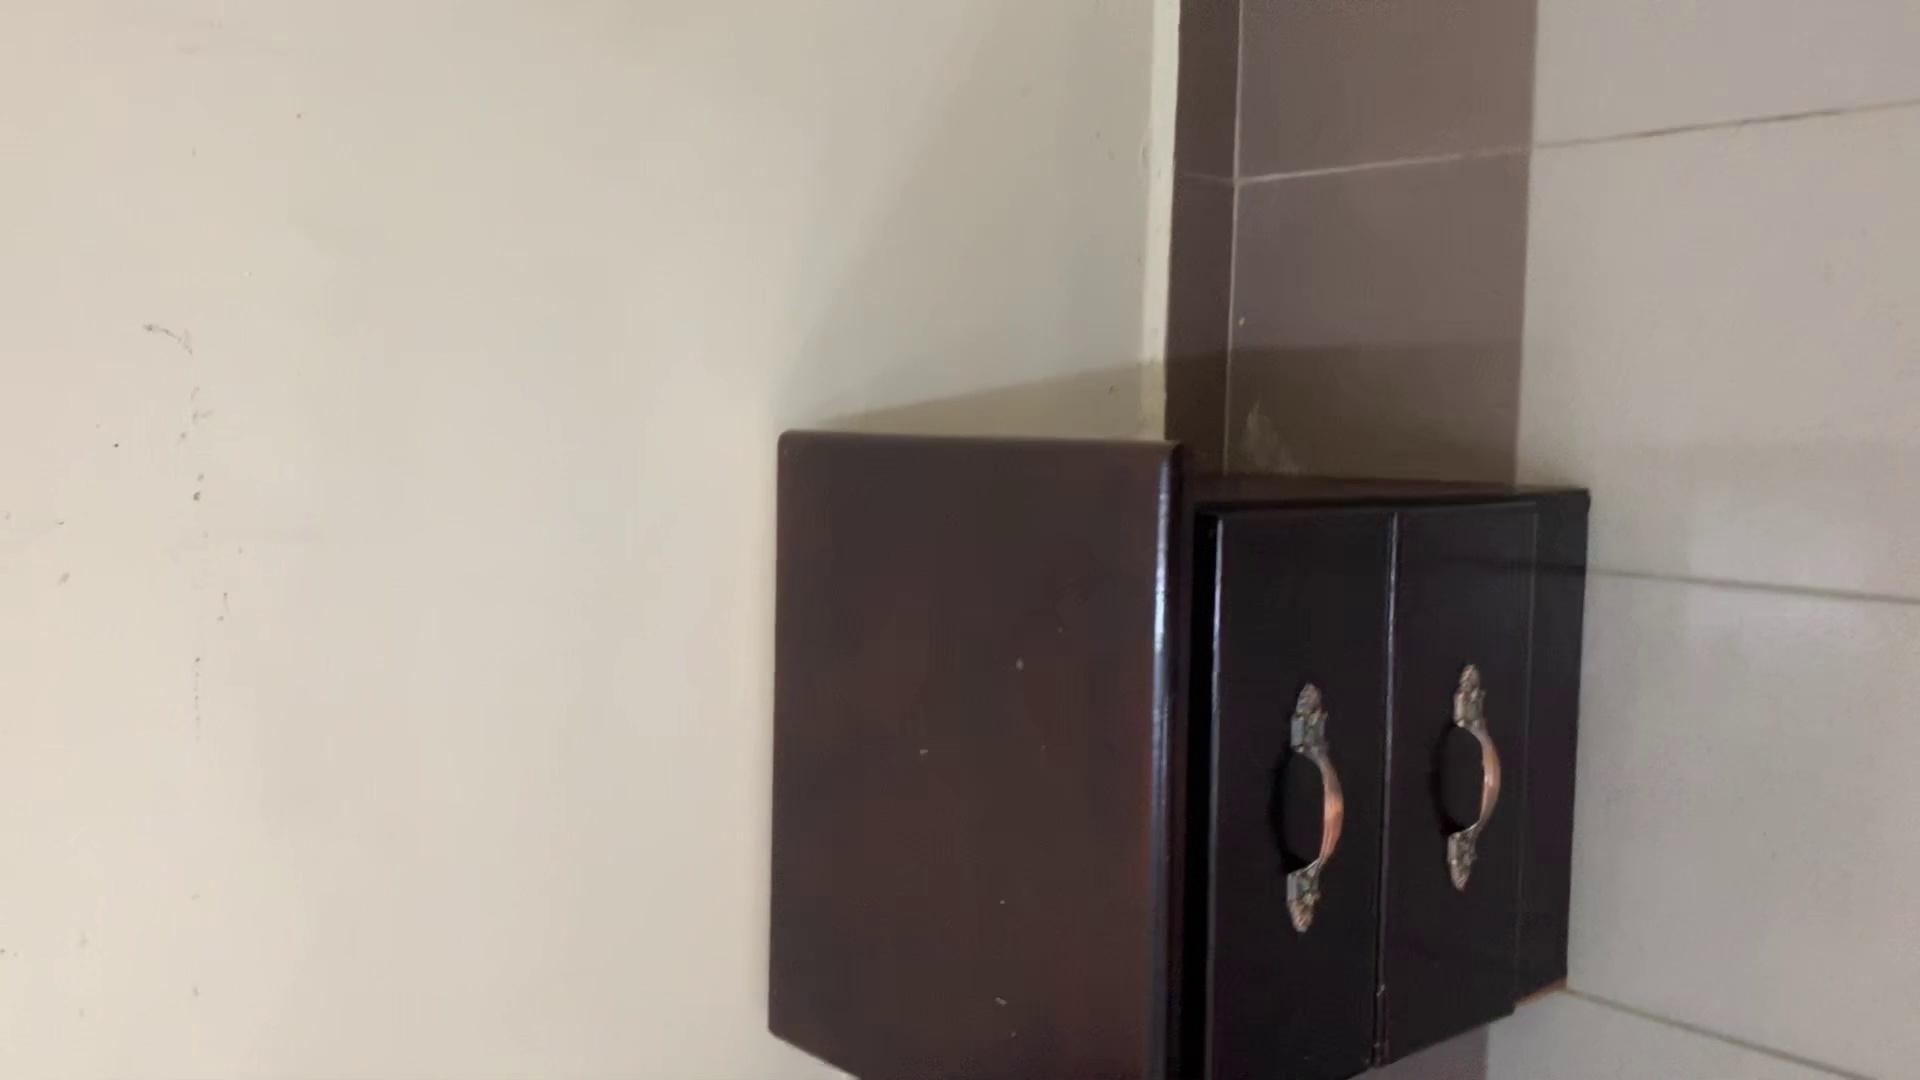cabinet_door: (1201, 509, 1386, 1069), (1378, 509, 1515, 1010)
handle: (1265, 680, 1352, 934), (1431, 657, 1513, 895)
